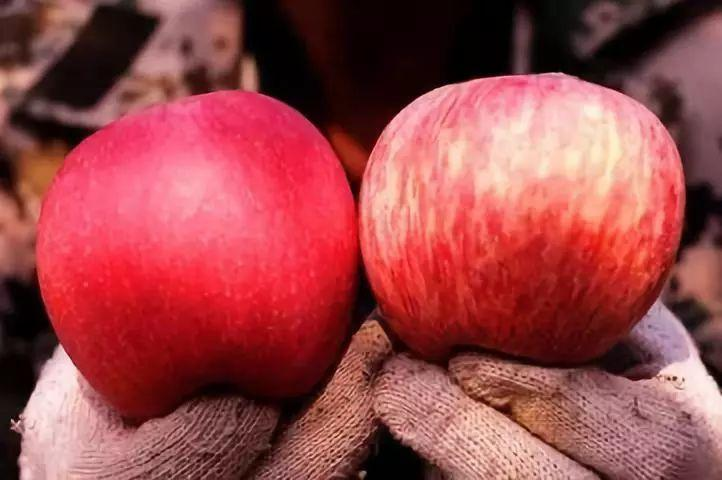apple: (31, 91, 355, 422), (364, 69, 682, 362)
